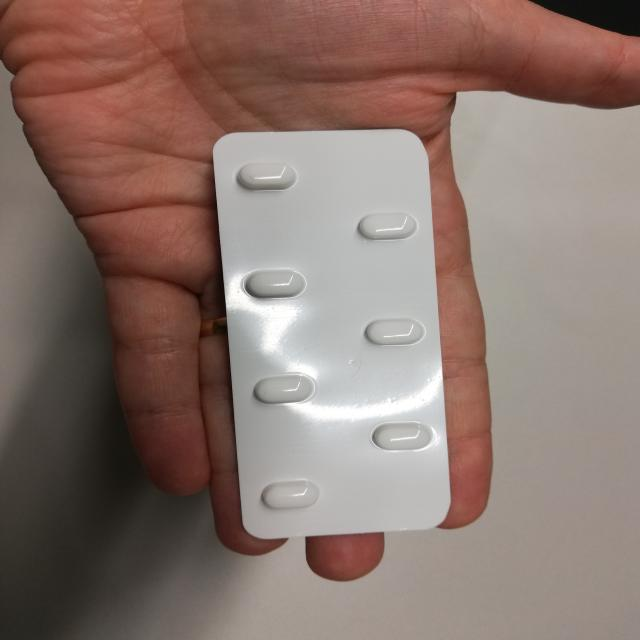Pill: (230, 153, 313, 200), (350, 204, 433, 249), (254, 475, 333, 518), (359, 416, 437, 458), (237, 264, 320, 303), (358, 311, 430, 354), (241, 368, 320, 407)
